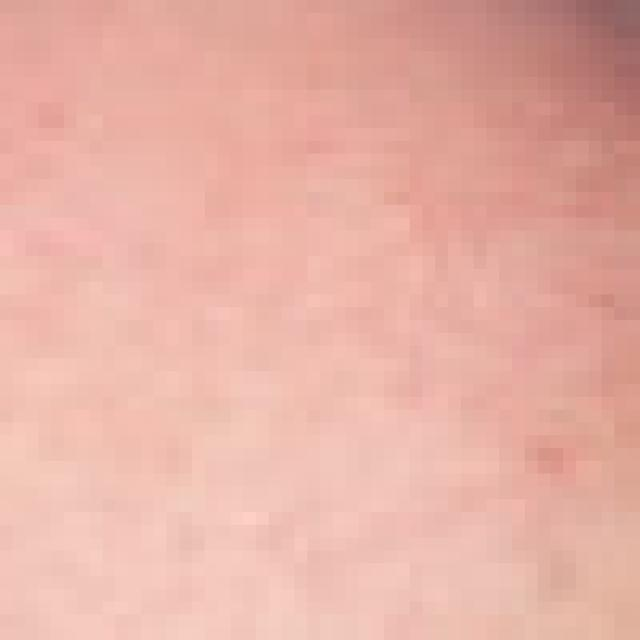no_fire: (25, 25, 640, 614)
